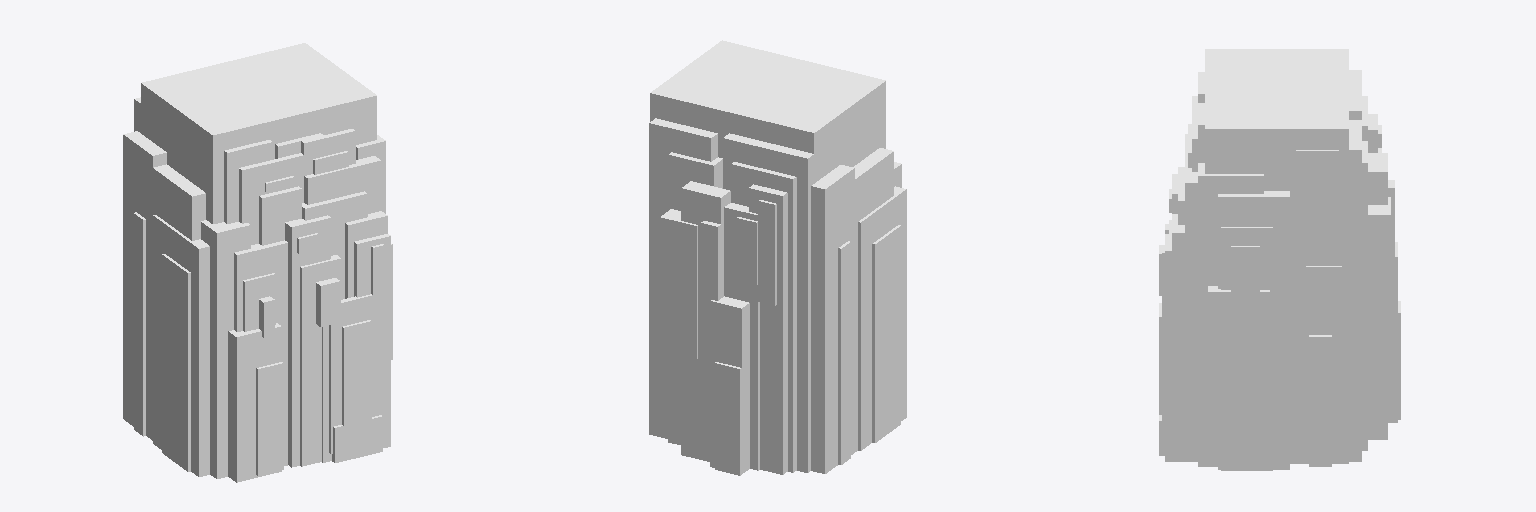
The model's file is KlippePlatform.obj.
The picture shows the model from 3 angles: view 1: azimuth 30°, elevation 25°; view 2: azimuth 150°, elevation 25°; view 3: azimuth 270°, elevation 25°; orthographic projection.
Parts seen in each view (by area): view 1: object 1; view 2: object 1; view 3: object 1.
Boxes of the visible parts, x1=… form: object 1: x1=123, y1=43, x2=392, y2=482; object 1: x1=649, y1=40, x2=906, y2=475; object 1: x1=1159, y1=49, x2=1400, y2=470.
Bounding box in the file's own units: 7.1 × 11.3 × 7.4.